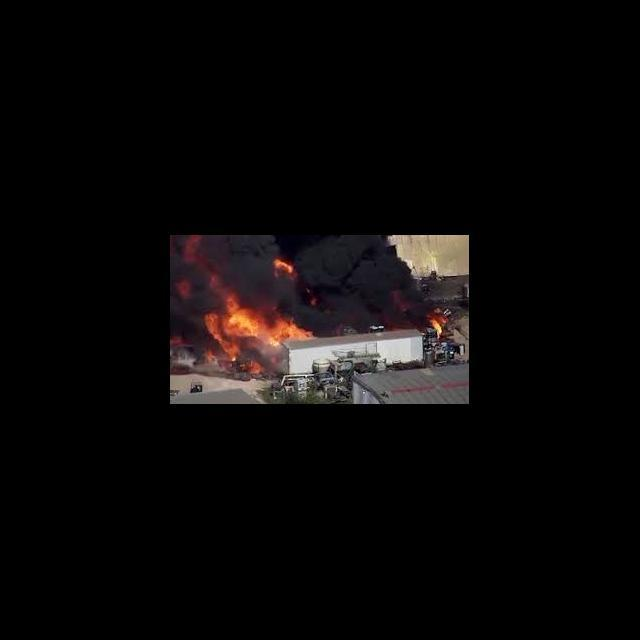Fire: (201, 294, 316, 379), (184, 236, 201, 266), (272, 257, 295, 276), (428, 316, 444, 340), (177, 279, 192, 302), (170, 334, 184, 348), (208, 273, 220, 288)
Smoke: (302, 238, 404, 292), (318, 292, 424, 328), (223, 236, 271, 293), (171, 302, 201, 334), (272, 237, 302, 256), (272, 278, 300, 294)
